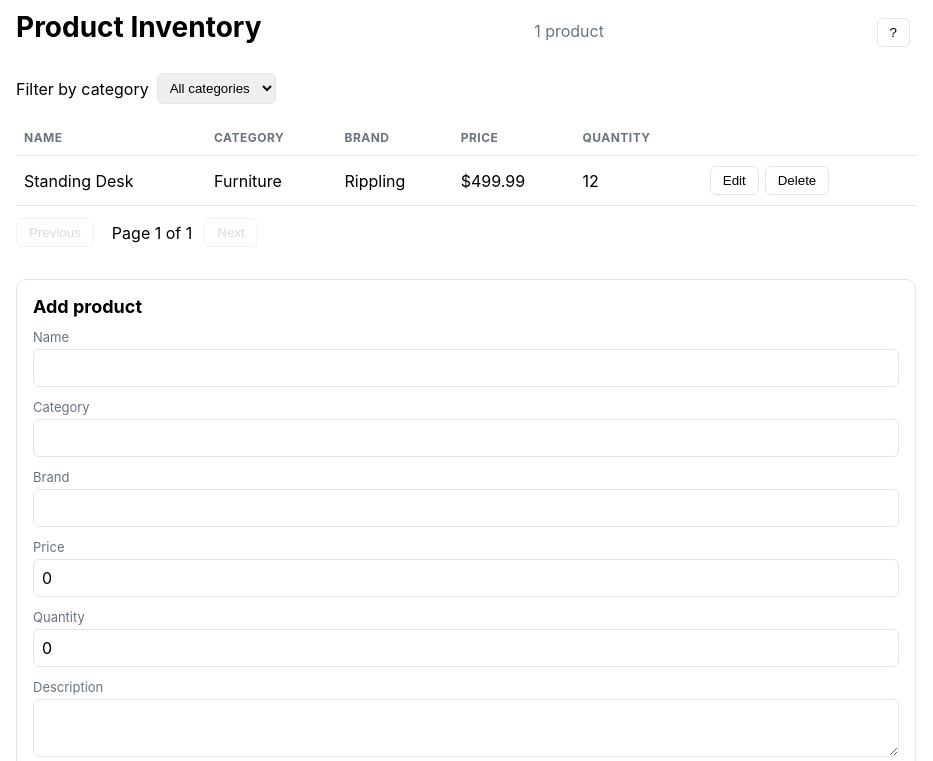
it: ProductsPage › deletes a product
Check: the text "Standing Desk" is shown, box [16,156,206,206]
Click the button "Delete" at (797, 180), box [765,166,829,195]
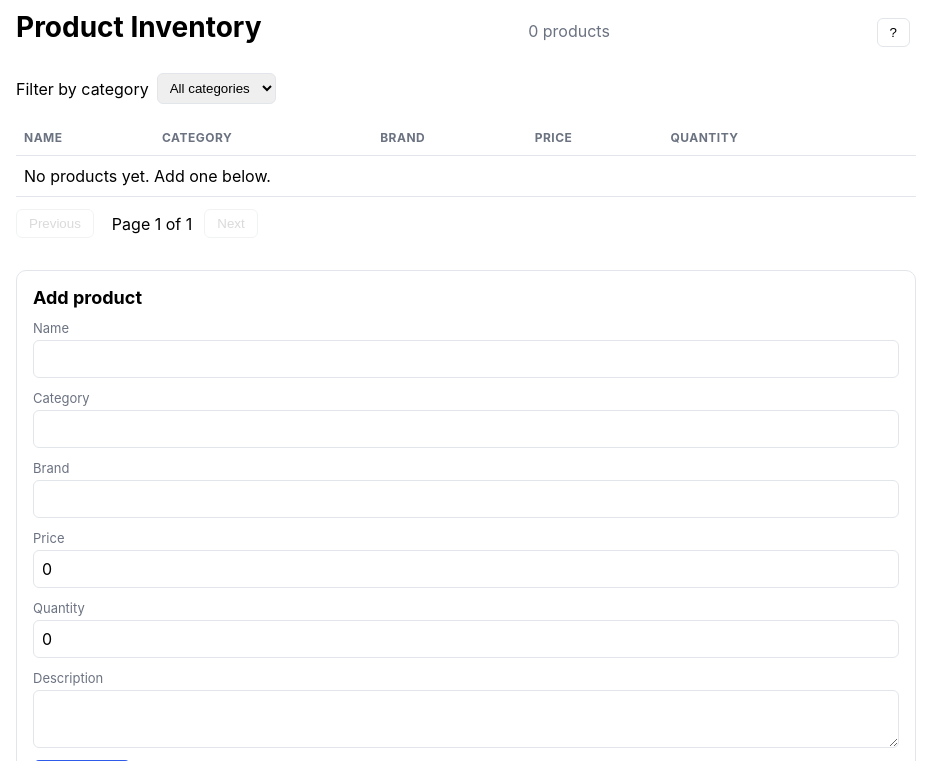
Check: the text "No products yet. Add one below." is shown, box [16,156,916,196]
